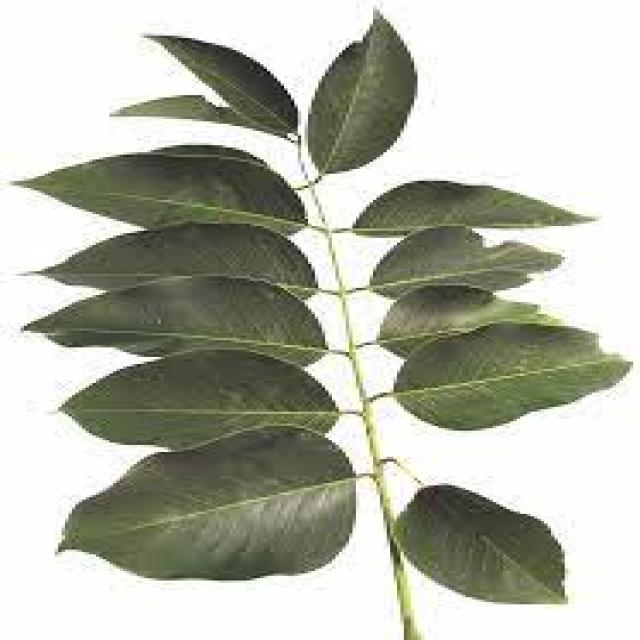Amaltas: (52, 8, 582, 640)
